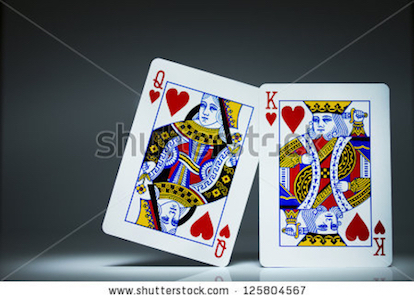KingOfHearts: (252, 79, 399, 274)
QueenOfHearts: (102, 57, 257, 267)
